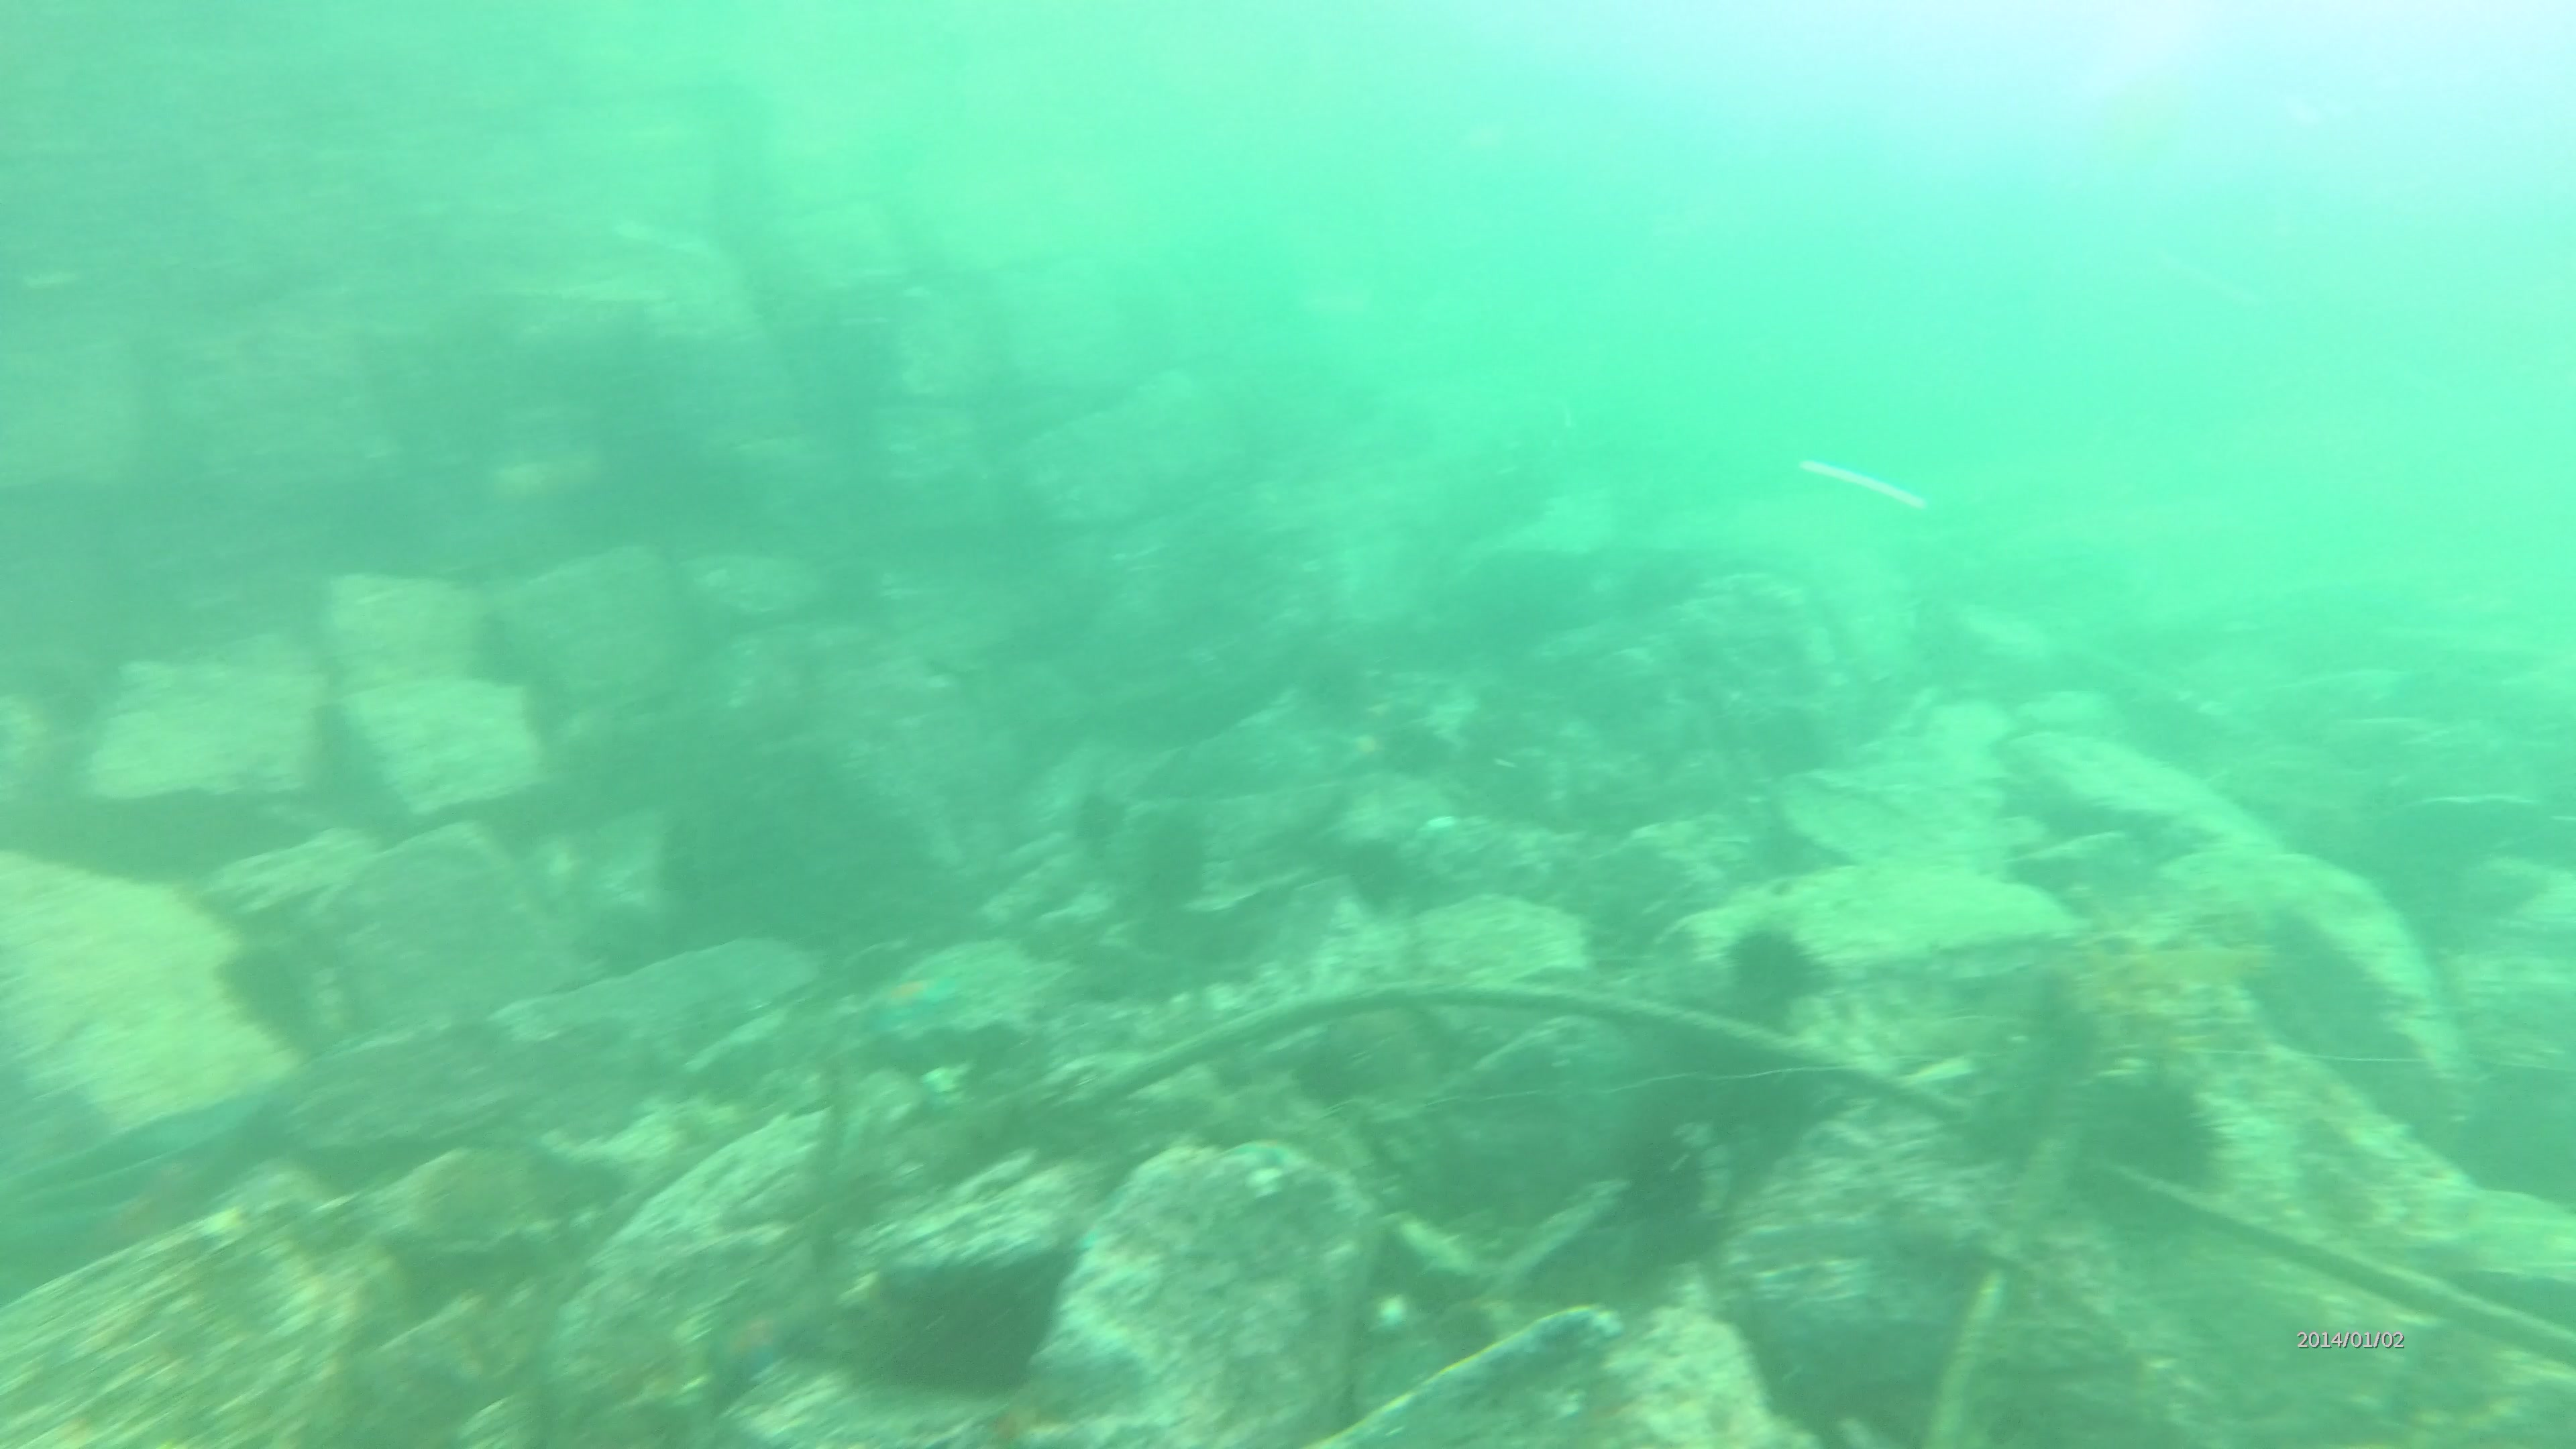echinus: (2091, 1069, 2224, 1187), (1721, 918, 1840, 1016), (1069, 787, 1116, 832)
starfish: (860, 962, 970, 1035), (709, 1300, 800, 1382)
